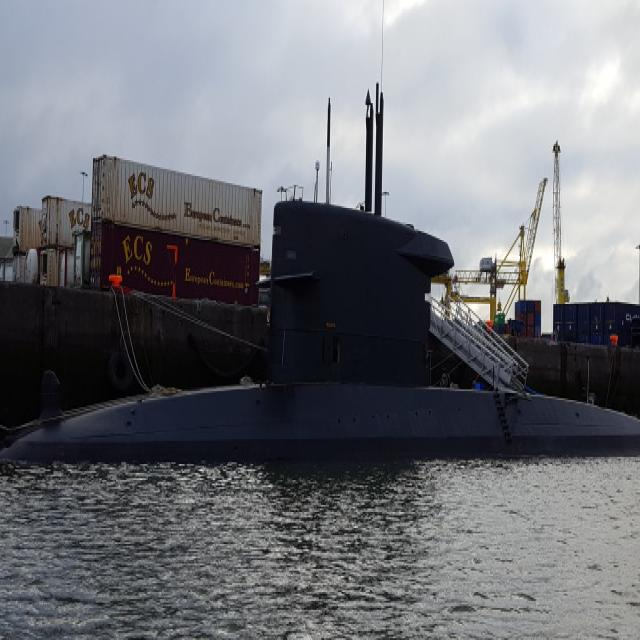submarine: (1, 78, 640, 460)
